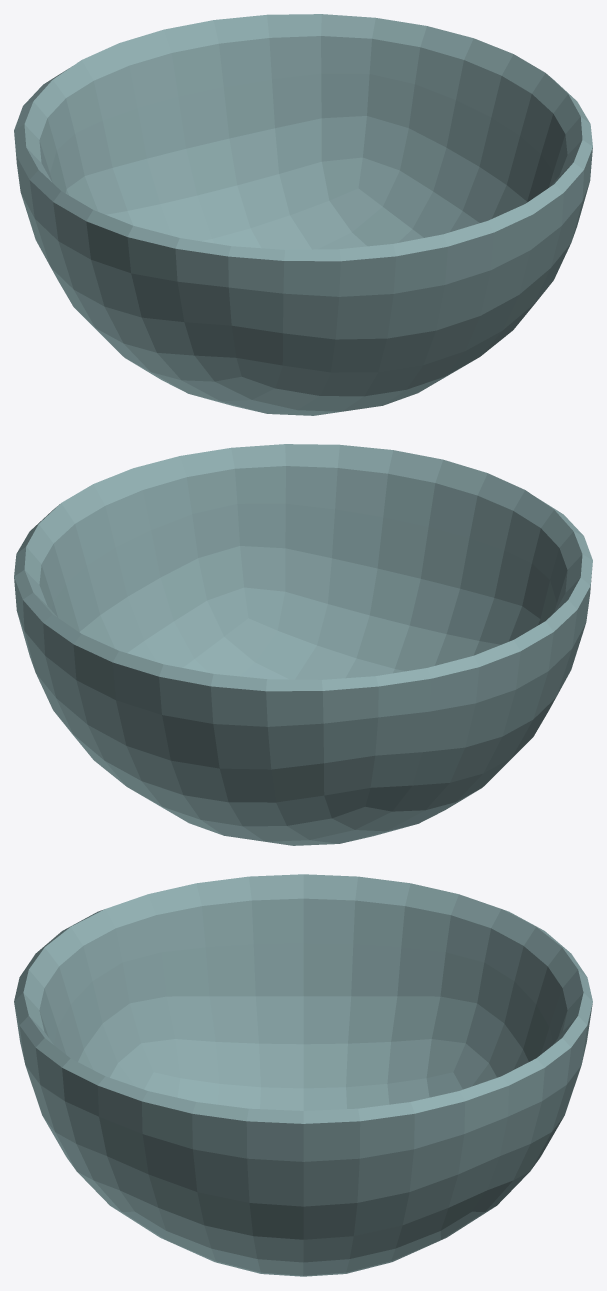
Rendered from bowl.fbx.
3 views of the same model, one above another, from view 1: azimuth 30°, elevation 25°; view 2: azimuth 150°, elevation 25°; view 3: azimuth 270°, elevation 25° (orthographic).
Parts seen in each view (by area): view 1: Cube.003; view 2: Cube.003; view 3: Cube.003.
Part boxes in pixels (x1,y1,x2,y2): Cube.003: (14, 14, 592, 415); Cube.003: (14, 444, 592, 845); Cube.003: (14, 874, 592, 1276).
Size of the model in its own units: 192 by 90.11 by 192.
